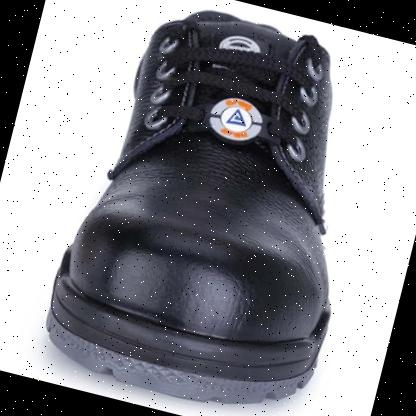bota: (29, 0, 400, 416)
